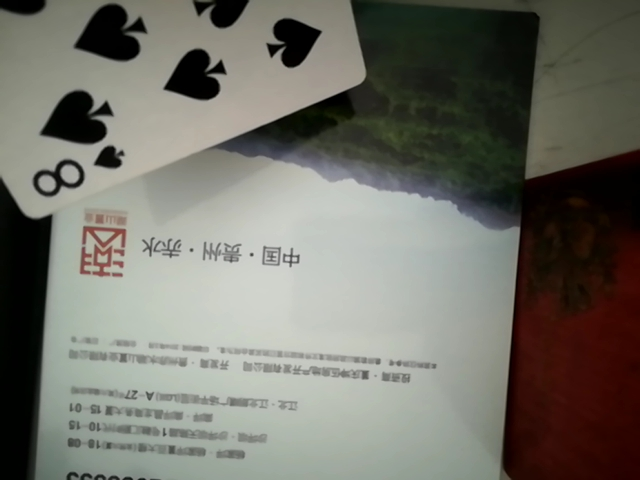ht 8: (0, 0, 371, 218)
